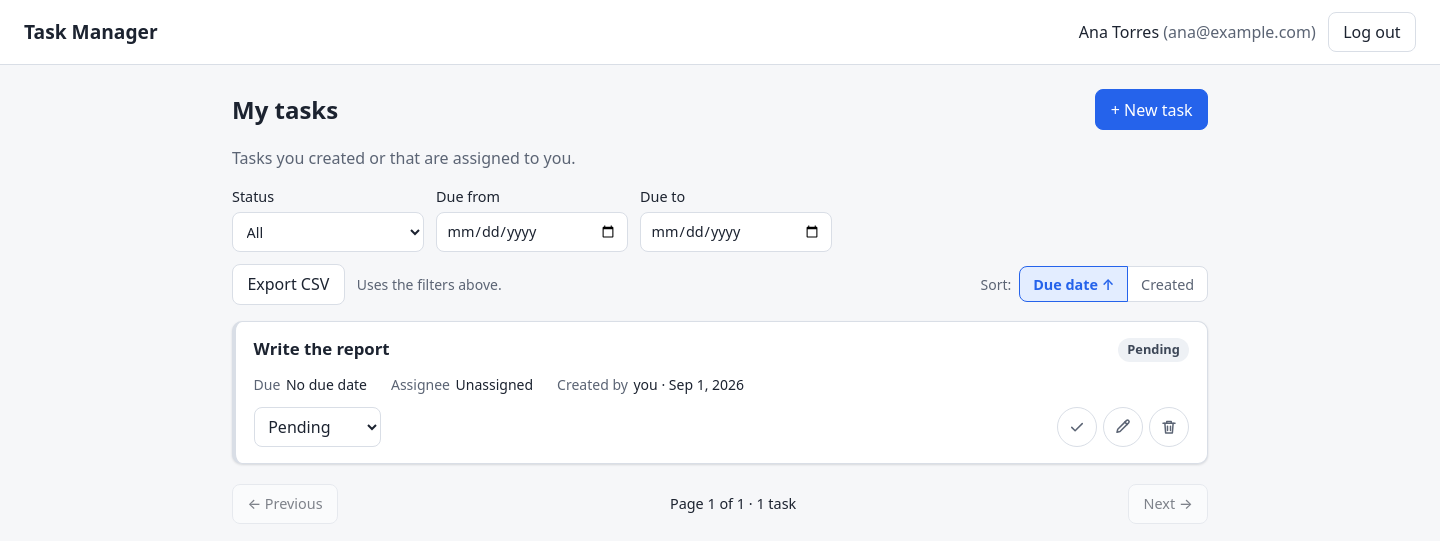
Scenario: tasks › the check button completes a task and reopens it
The width and height of the screenshot is (1440, 541).
Click the button named "Mark as completed". click: coordinates (1077, 427)
box: x1=1057 y1=407 x2=1097 y2=447
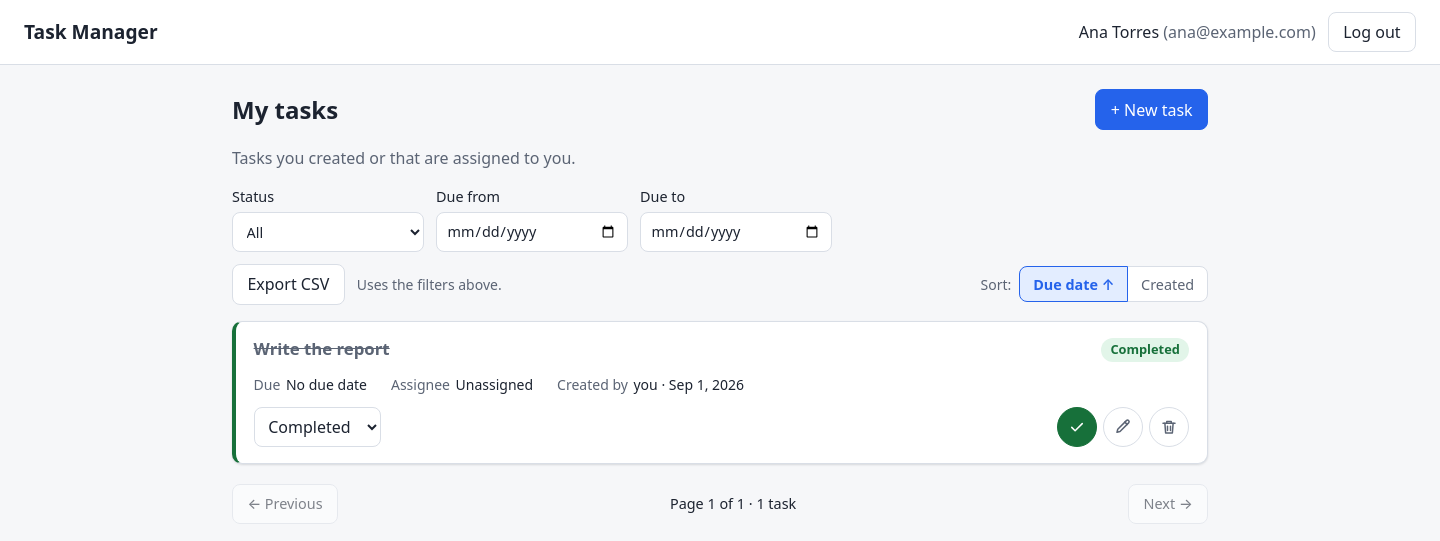
Expected: the 2nd dropdown shows "Completed", x1=254 y1=406 x2=381 y2=447
Click the button named "Mark as not completed". click: coordinates (1077, 427)
box: x1=1057 y1=407 x2=1097 y2=447
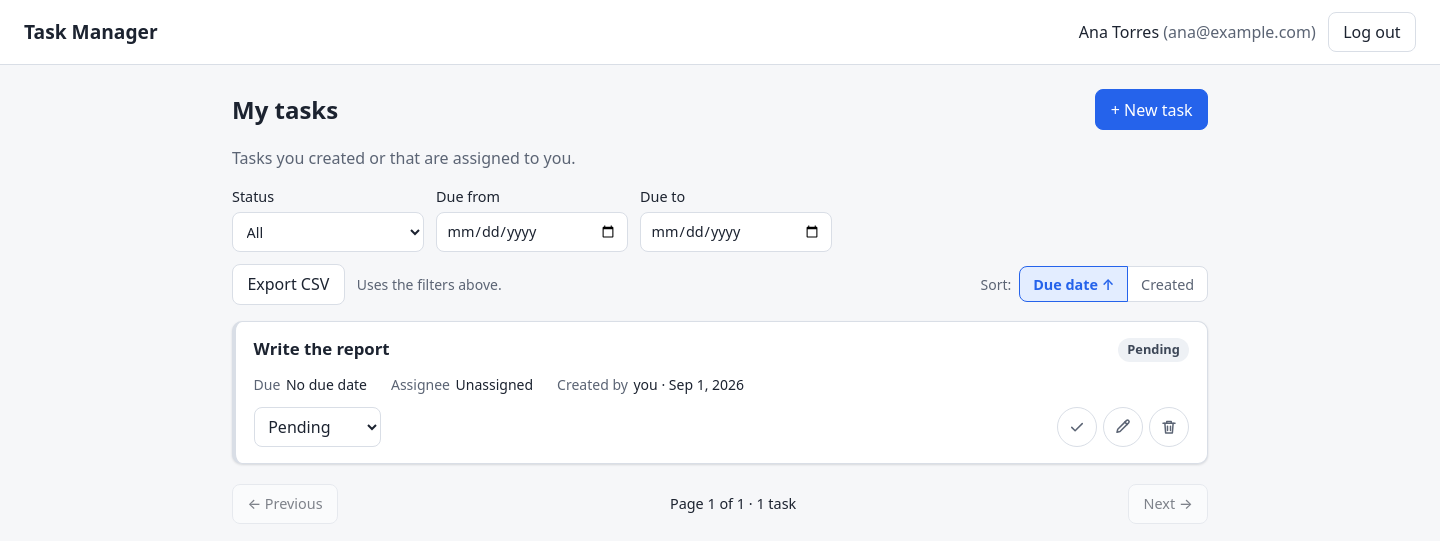
Expected: the button named "Mark as completed" is shown, x1=1057 y1=407 x2=1097 y2=447
